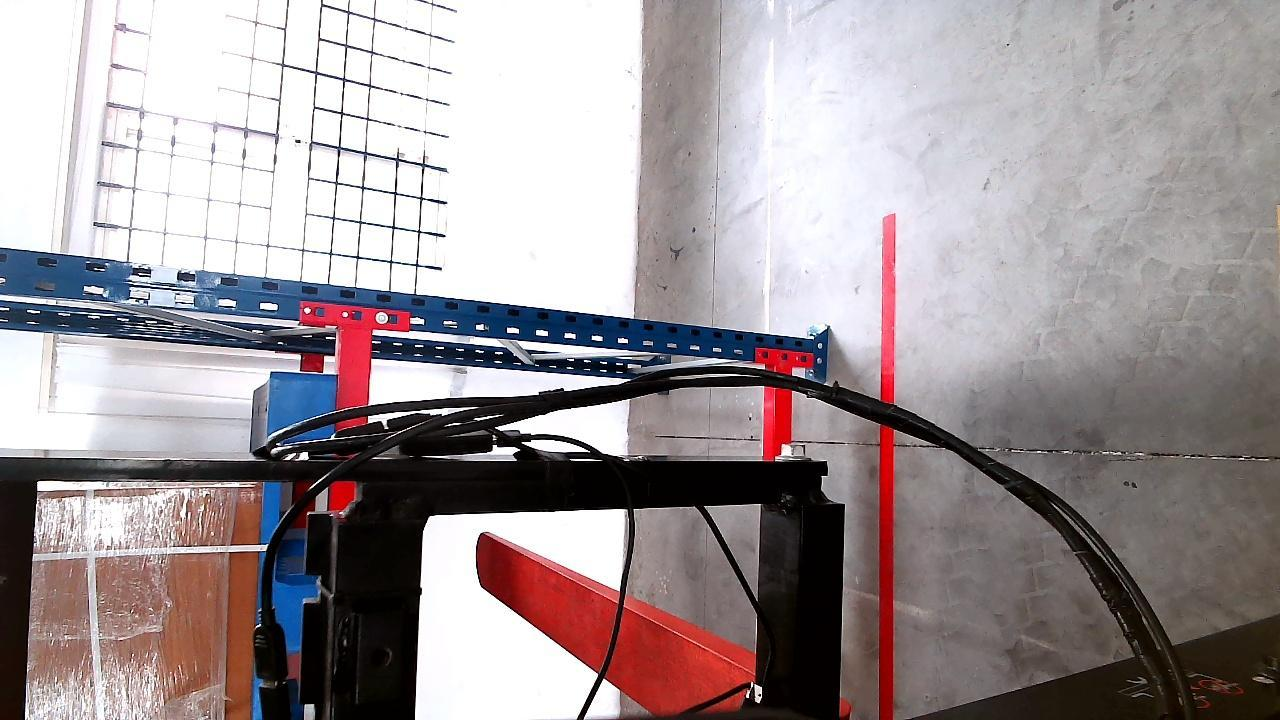red_line: (878, 209, 893, 717)
